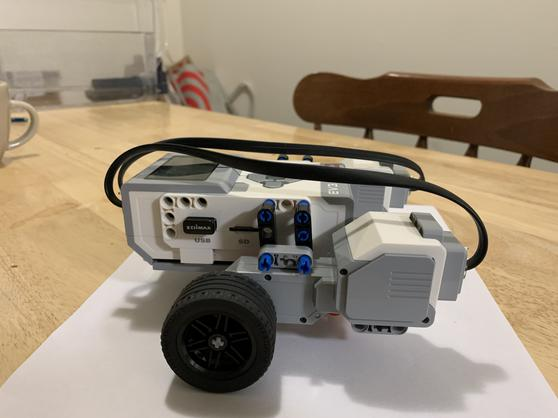robot: (113, 136, 496, 398)
